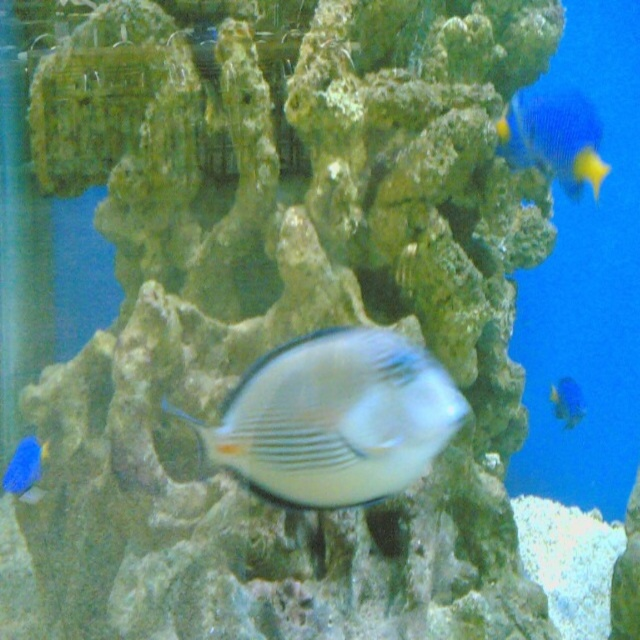Fish: (163, 326, 474, 513), (523, 90, 613, 194), (1, 438, 48, 495), (550, 378, 589, 429)
